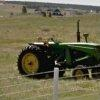Tractor: (14, 31, 95, 84)
